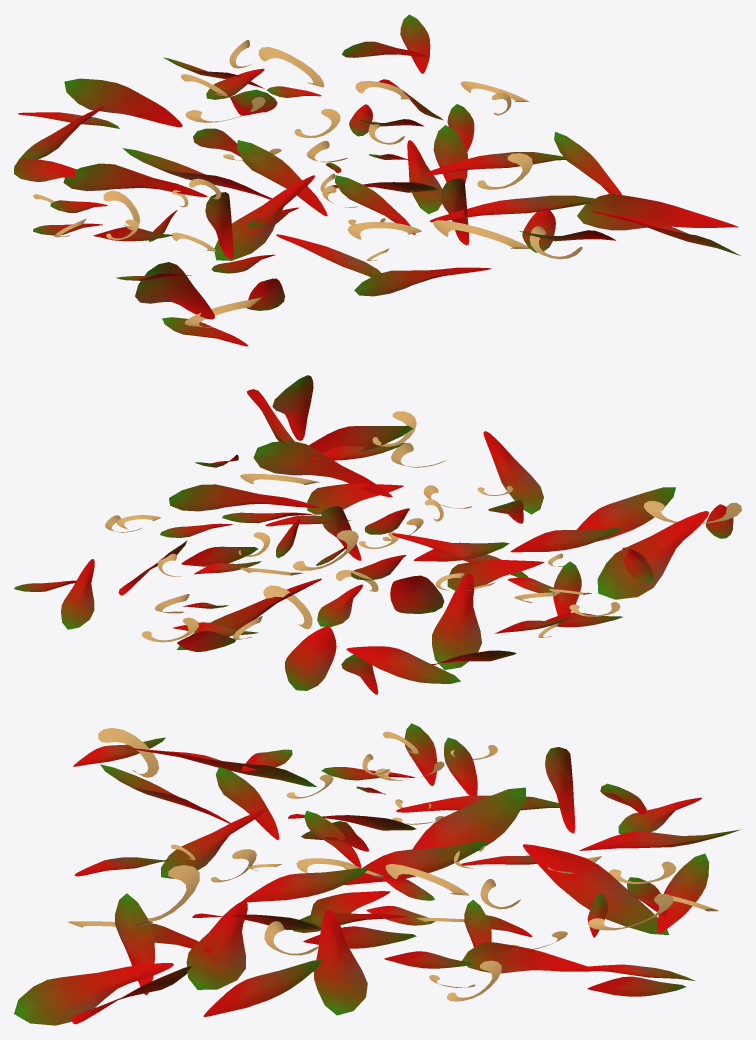
The model's file is Dead leaves 2.fbx.
3 views of the same model, one above another, from view 1: azimuth 30°, elevation 25°; view 2: azimuth 150°, elevation 25°; view 3: azimuth 270°, elevation 25° (orthographic). The views are drawn at different scales.
Visible parts, largest first — view 1: GS Autumn dead leaves 01.001; view 2: GS Autumn dead leaves 01.001; view 3: GS Autumn dead leaves 01.001.
Part boxes in pixels (x1,y1,x2,y2): GS Autumn dead leaves 01.001: [14, 14, 740, 346]; GS Autumn dead leaves 01.001: [14, 375, 741, 694]; GS Autumn dead leaves 01.001: [14, 723, 740, 1025].
Size of the model in its own units: 0.6935 by 0.0584 by 0.7456.
